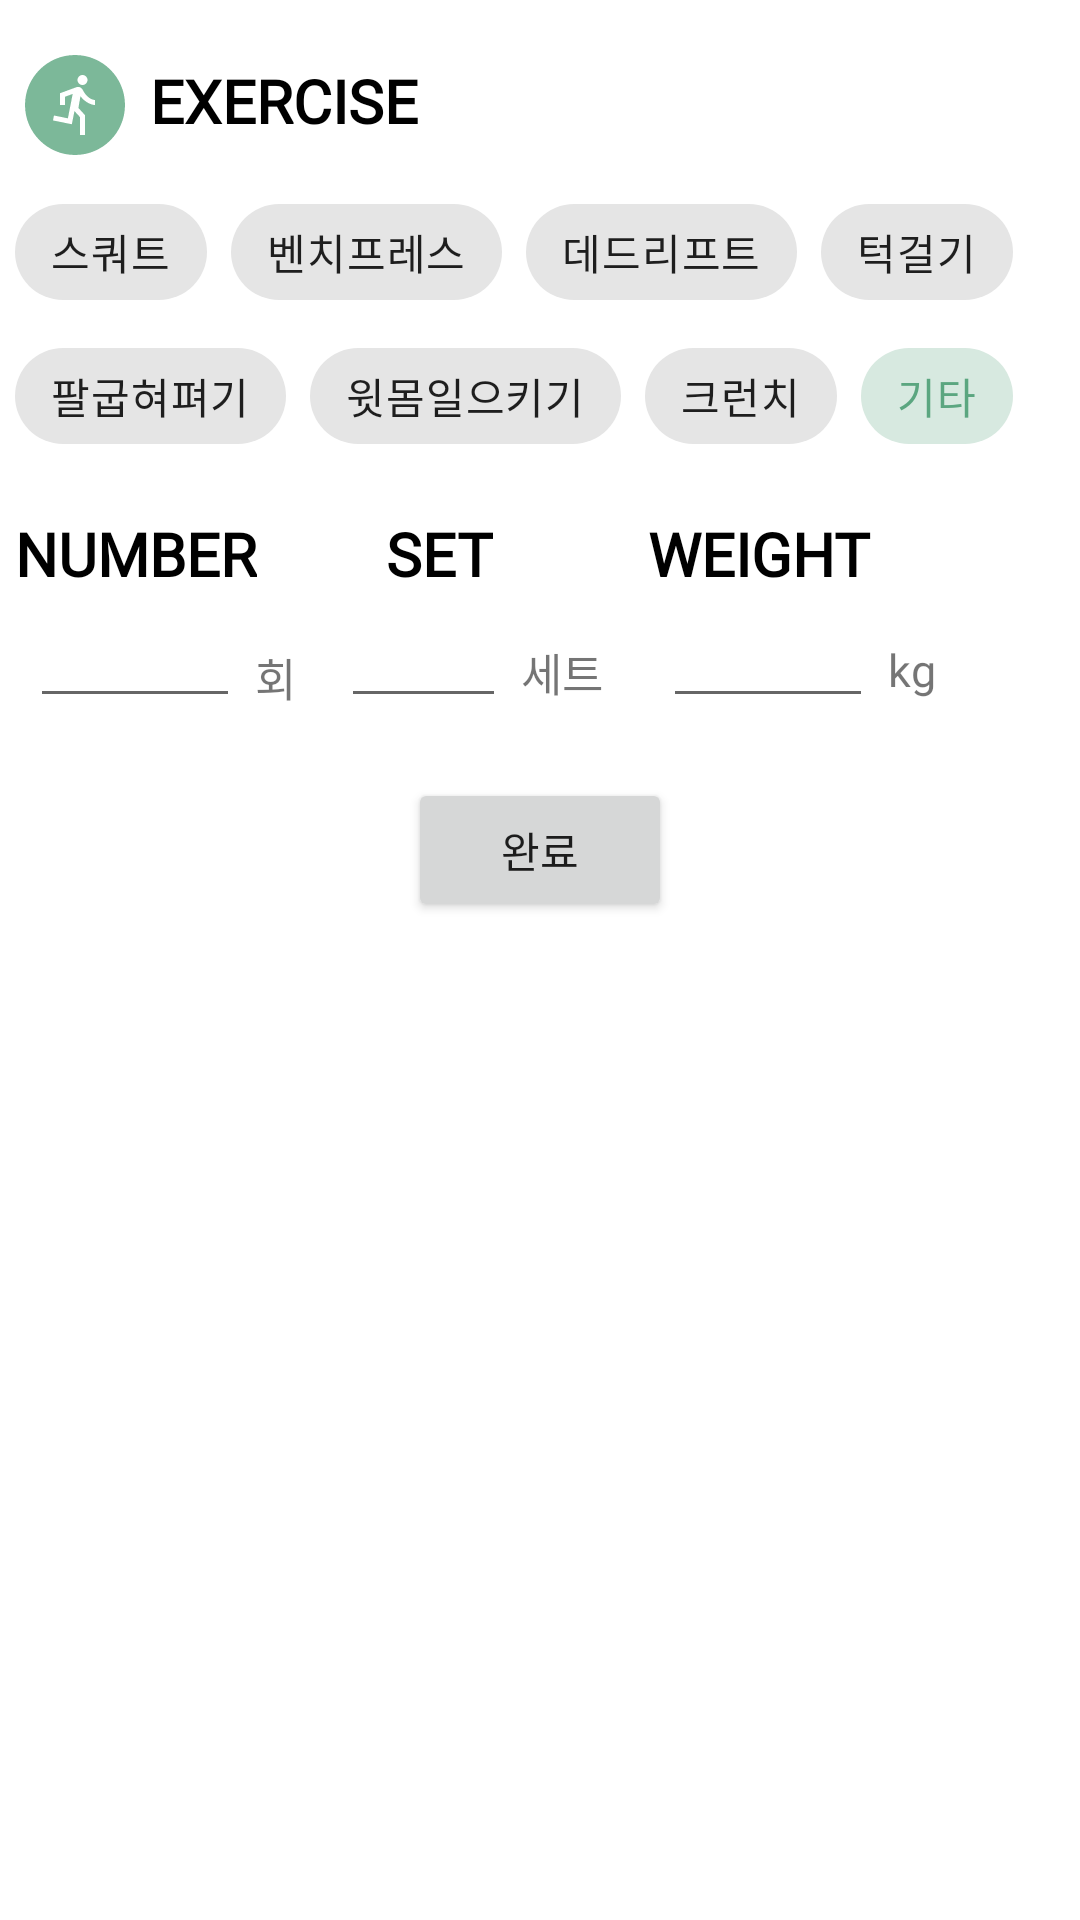

Screen size 1080x1920. Icon name, then its box in pixels as [x1, y1, x2, y2]:
run: [25, 55, 125, 155]
